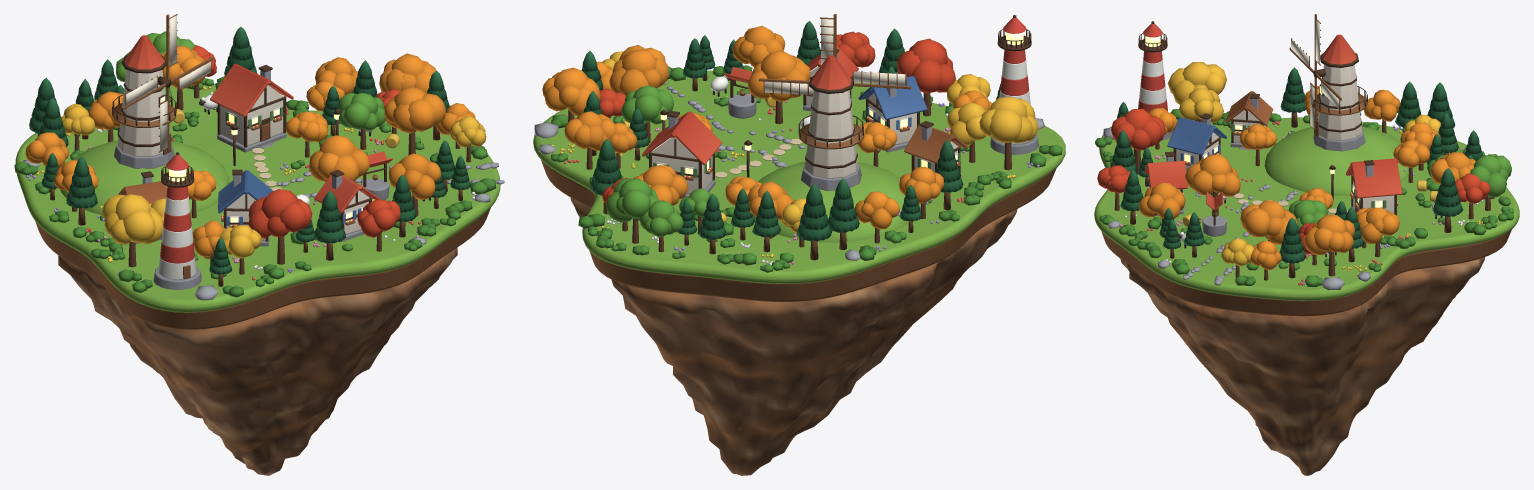
File: island.glb
The picture shows the model from 3 angles, left to right: view 1: azimuth 30°, elevation 25°; view 2: azimuth 150°, elevation 25°; view 3: azimuth 270°, elevation 25°; orthographic projection. The views are drawn at different scales.
Parts seen in each view (by area): view 1: static, mill_body, tree_17, tree_2, mill_hub, tree_0, tree_21, tree_6, tree_25, tree_1, tree_44, tree_12 (+24 smaller); view 2: static, mill_body, tree_2, tree_17, mill_hub, tree_0, tree_21, tree_1, tree_39, tree_13, tree_25, tree_19 (+25 smaller); view 3: static, mill_body, tree_21, tree_1, tree_2, tree_0, tree_17, mill_hub, tree_39, tree_6, tree_13, tree_38 (+20 smaller).
Part boxes in pixels (x1=…): static: x1=14, y1=63, x2=504, y2=475; mill_body: x1=112, y1=35, x2=176, y2=168; tree_17: x1=102, y1=194, x2=163, y2=267; tree_2: x1=248, y1=189, x2=312, y2=264; mill_hub: x1=121, y1=14, x2=213, y2=152; tree_0: x1=384, y1=86, x2=445, y2=155; tree_21: x1=308, y1=135, x2=369, y2=181; tree_6: x1=388, y1=153, x2=441, y2=216; tree_25: x1=338, y1=92, x2=385, y2=149; tree_1: x1=379, y1=53, x2=435, y2=93; tree_44: x1=357, y1=199, x2=400, y2=251; tree_12: x1=313, y1=190, x2=345, y2=260; static: x1=533, y1=15, x2=1065, y2=475; mill_body: x1=798, y1=55, x2=864, y2=190; tree_2: x1=897, y1=38, x2=955, y2=116; tree_17: x1=979, y1=97, x2=1038, y2=170; mill_hub: x1=759, y1=14, x2=911, y2=96; tree_0: x1=609, y1=45, x2=668, y2=95; tree_21: x1=747, y1=50, x2=810, y2=124; tree_1: x1=542, y1=67, x2=600, y2=122; tree_39: x1=606, y1=178, x2=659, y2=243; tree_13: x1=564, y1=111, x2=615, y2=169; tree_25: x1=621, y1=85, x2=673, y2=142; tree_19: x1=796, y1=183, x2=831, y2=260; static: x1=1094, y1=21, x2=1519, y2=475; mill_body: x1=1311, y1=34, x2=1367, y2=151; tree_21: x1=1184, y1=154, x2=1240, y2=215; tree_1: x1=1304, y1=214, x2=1355, y2=276; tree_2: x1=1111, y1=108, x2=1165, y2=174; tree_0: x1=1240, y1=200, x2=1297, y2=244; tree_17: x1=1167, y1=62, x2=1226, y2=121; mill_hub: x1=1289, y1=14, x2=1341, y2=134; tree_39: x1=1470, y1=155, x2=1511, y2=210; tree_6: x1=1138, y1=182, x2=1185, y2=237; tree_13: x1=1357, y1=207, x2=1399, y2=257; tree_38: x1=1179, y1=88, x2=1223, y2=122.
Bounding box in the file's own units: 12.22 × 13.37 × 12.26.
